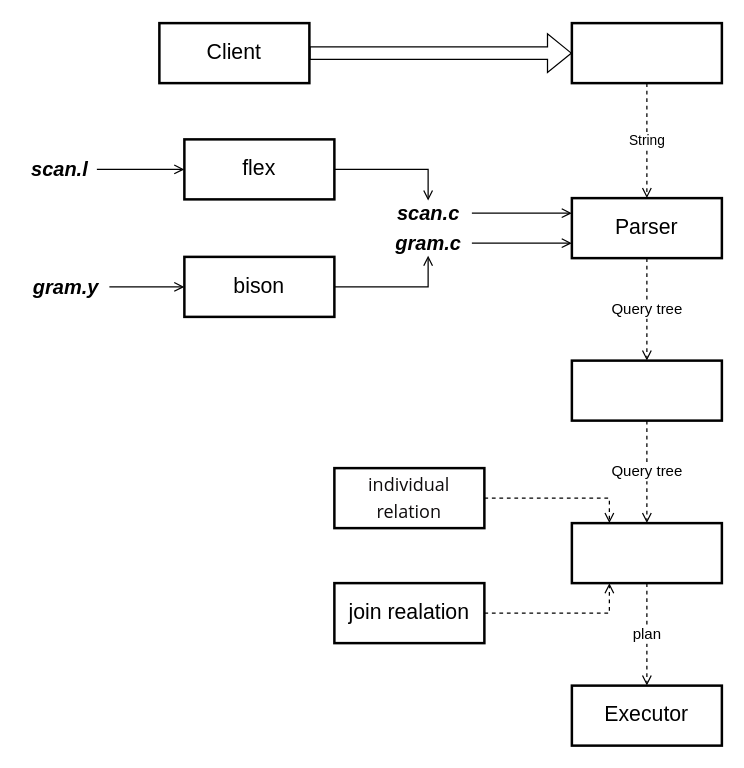
Some shapes in this 744 by 768 pixel diagram are drawn without their labels. The shapes that lost their labels are listed below. From the top down, each one's centre as x and y in pixels, then its label:
At point 646,52: "Server".
At point 646,390: "Rule Rewrite".
At point 646,552: "Optimizer".
